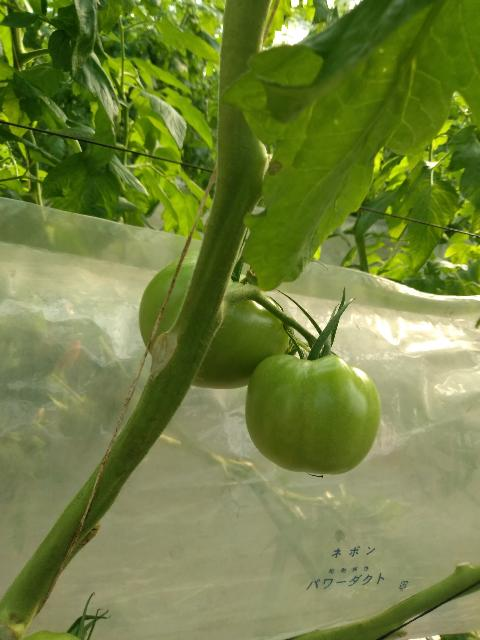b_green: (139, 250, 289, 389), (245, 354, 381, 475)
